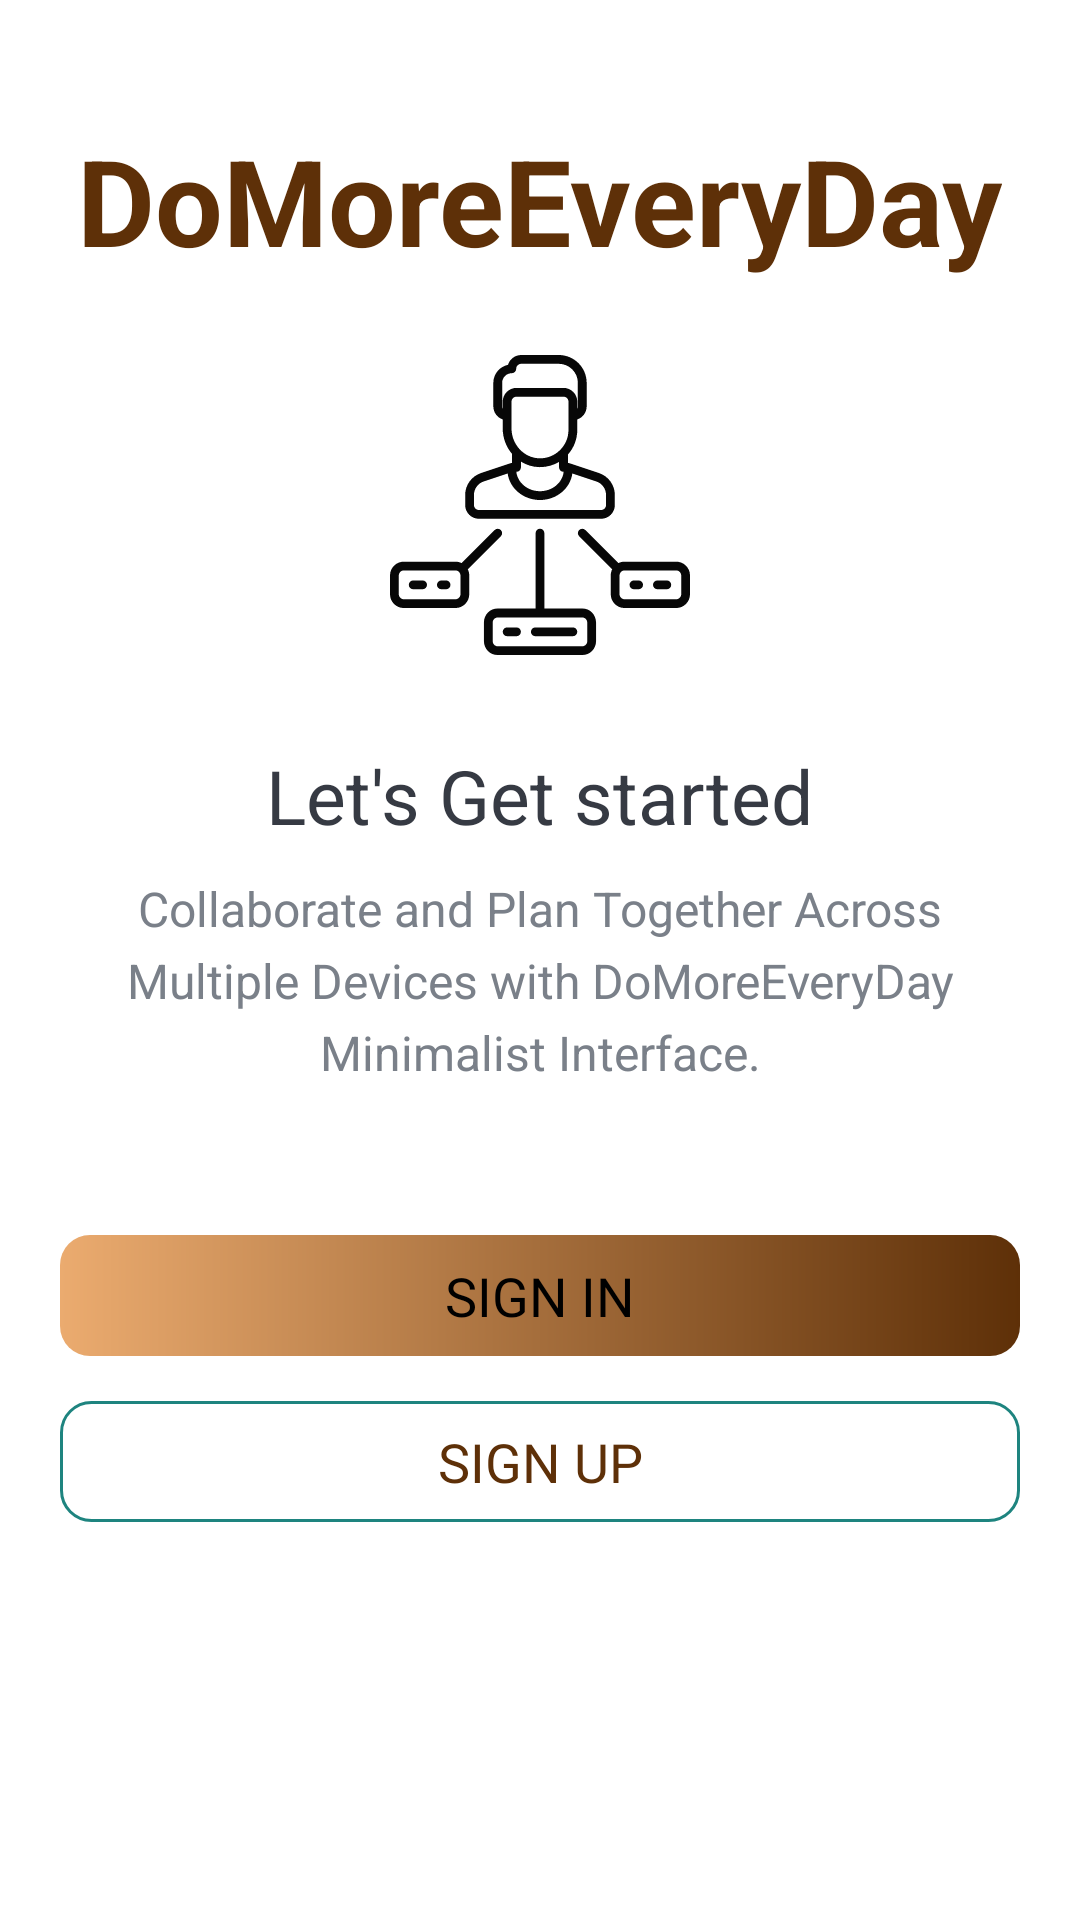

Named icons in this screenshot (1080×1920) and their centers, [x,y]:
tasks: [540,505]
